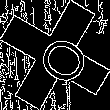O_NW: (22, 24, 88, 86)
